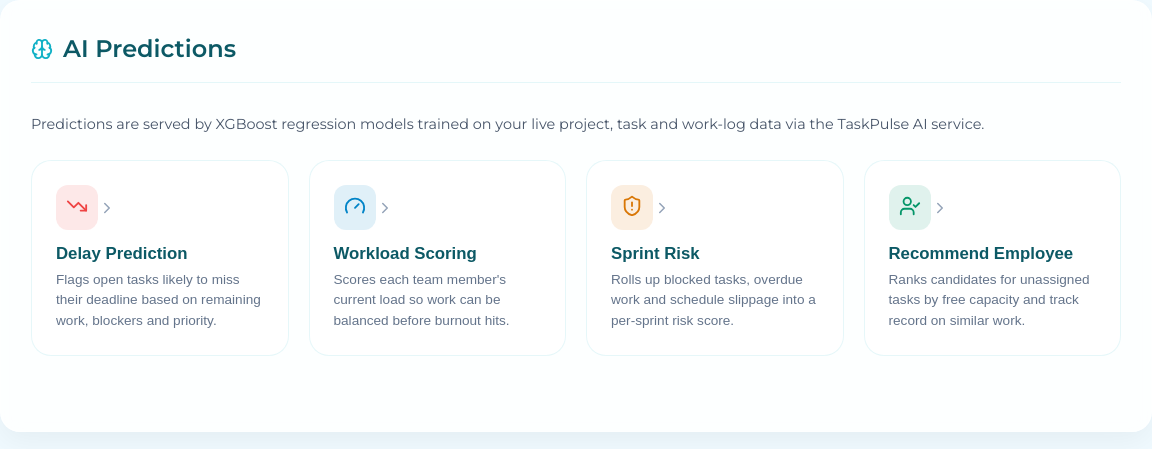
Scenario: AIPredictionsModule (UI) › UI-2 clicking the Delay Prediction card navigates into that sub-view
Click the heading "Delay Prediction" at (122, 254), box [56,244,188,263]
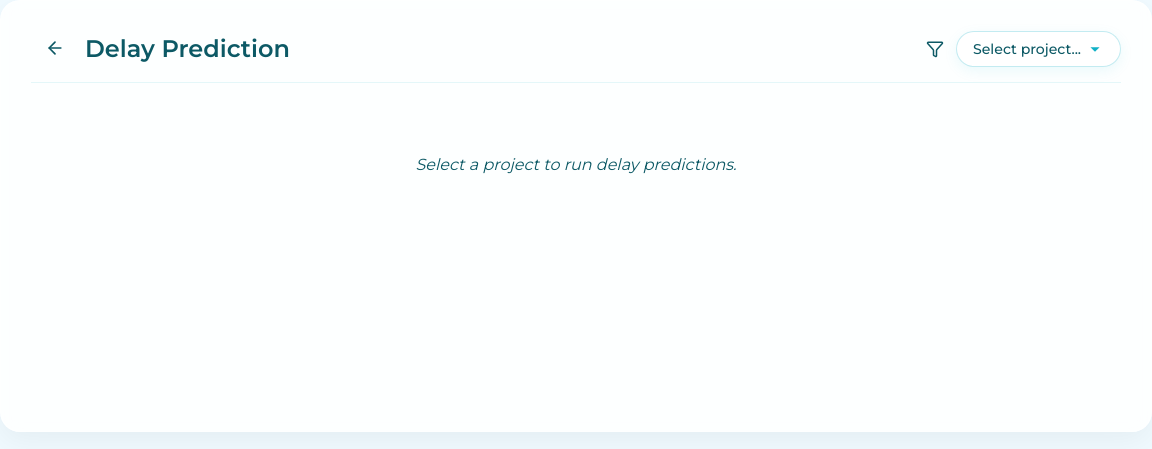
Expected: the heading "Delay Prediction" is shown, [85,31,290,67]
Expected: the button titled "Back to AI Predictions" is shown, [39,32,71,66]
